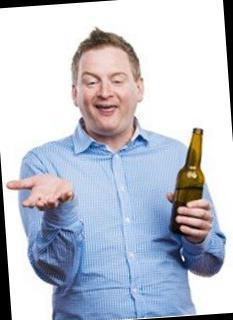Drunk: (77, 49, 134, 134)
